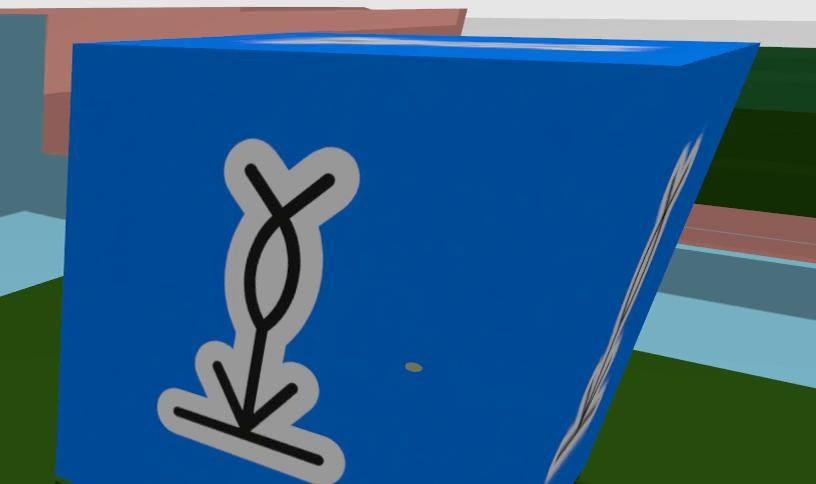KFS_REAL: (56, 31, 756, 484), (56, 35, 752, 484), (161, 139, 358, 484)
